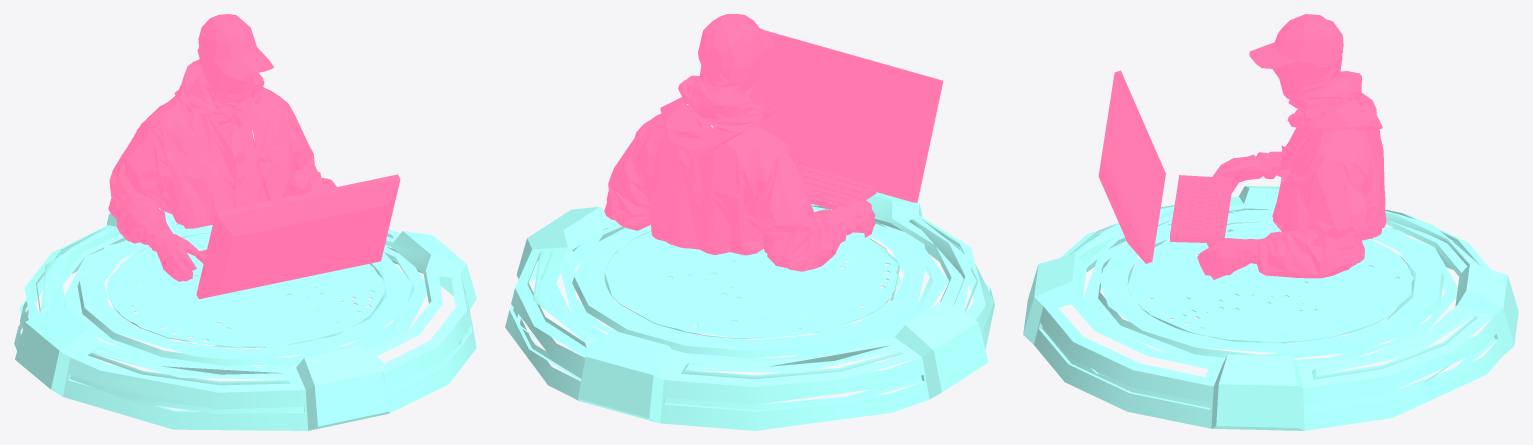
File: 攻击选手.fbx
3 renders of one model, left to right at view 1: azimuth 30°, elevation 25°; view 2: azimuth 150°, elevation 25°; view 3: azimuth 270°, elevation 25°, orthographic. The views are drawn at different scales.
Visible parts, largest first — view 1: 攻击队伍; view 2: 攻击队伍; view 3: 攻击队伍.
Part boxes in pixels (<box>): 攻击队伍: <box>14,14,476,430</box>; 攻击队伍: <box>505,14,994,430</box>; 攻击队伍: <box>1023,14,1518,430</box>.
Bounding box in the file's own units: 397 × 276 × 397.
